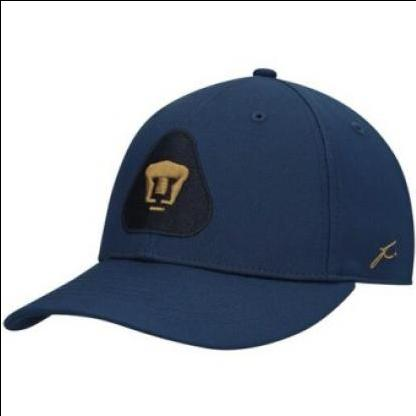cap: (3, 65, 414, 355)
